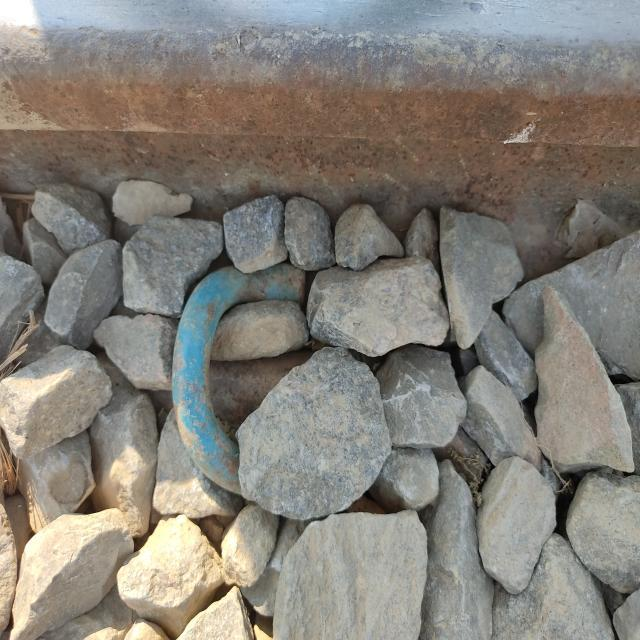Good Fasteners: (172, 262, 310, 494)
